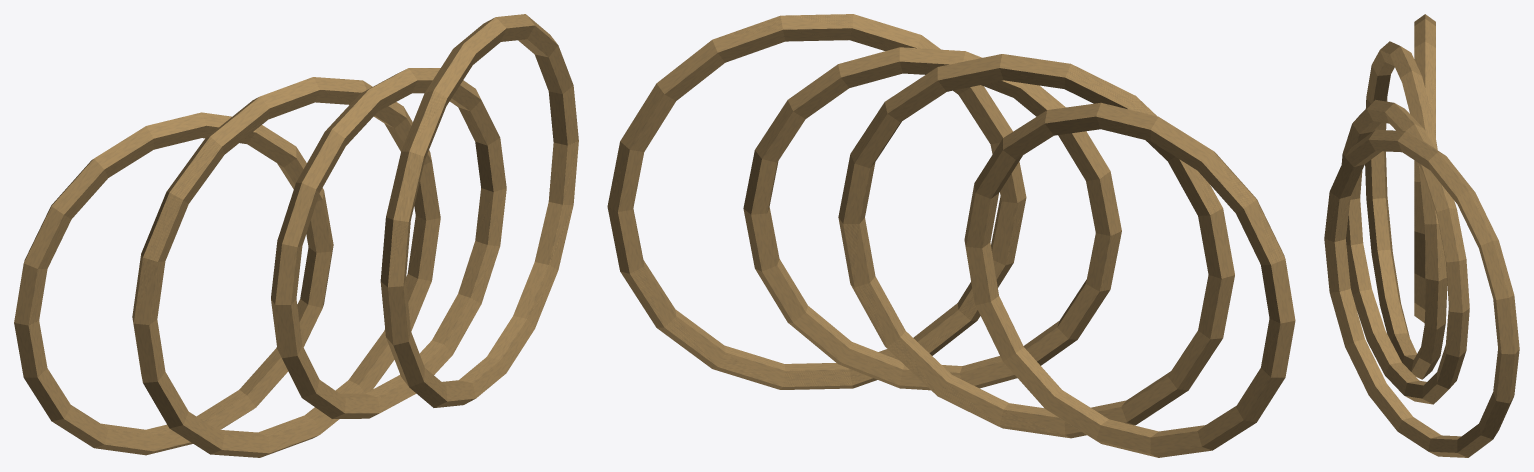
The model's file is en-019_signal_hill_dressing_set__ropes.obj.
The picture shows the model from 3 angles, left to right: view 1: azimuth 30°, elevation 25°; view 2: azimuth 150°, elevation 25°; view 3: azimuth 270°, elevation 25°; orthographic projection. The views are drawn at different scales.
Visible parts, largest first — view 1: en-019_signal_hill_dressing_set__ropes; view 2: en-019_signal_hill_dressing_set__ropes; view 3: en-019_signal_hill_dressing_set__ropes.
Boxes of the visible parts, left/top/right/bottom form: en-019_signal_hill_dressing_set__ropes: left=14, top=14, right=578, bottom=457; en-019_signal_hill_dressing_set__ropes: left=607, top=14, right=1295, bottom=457; en-019_signal_hill_dressing_set__ropes: left=1324, top=14, right=1519, bottom=457.
Bounding box in the file's own units: 0.7837 × 0.4432 × 0.2577.
Materials: 1 (1 with a texture image).
